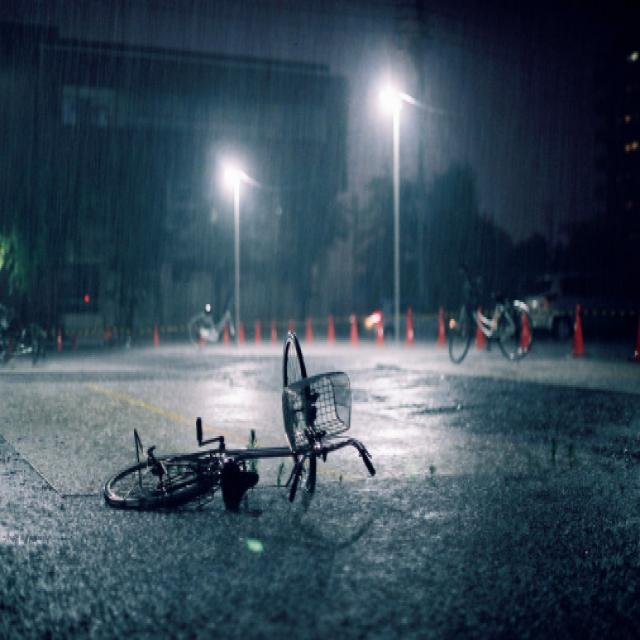Bicycle: (112, 317, 399, 563), (438, 267, 540, 400), (0, 283, 81, 370), (150, 291, 247, 346)
